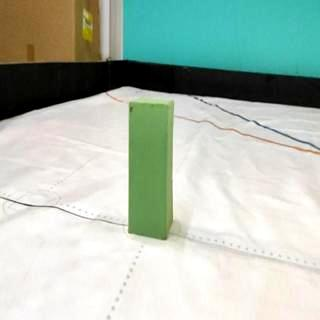greenbox: (128, 99, 173, 240)
